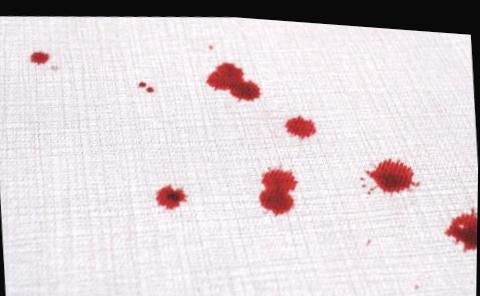Fire: (257, 158, 299, 213), (204, 58, 261, 98), (363, 151, 421, 190), (443, 199, 478, 246), (154, 180, 188, 207), (284, 110, 317, 135), (29, 49, 50, 64), (144, 84, 154, 90), (138, 79, 147, 85)
